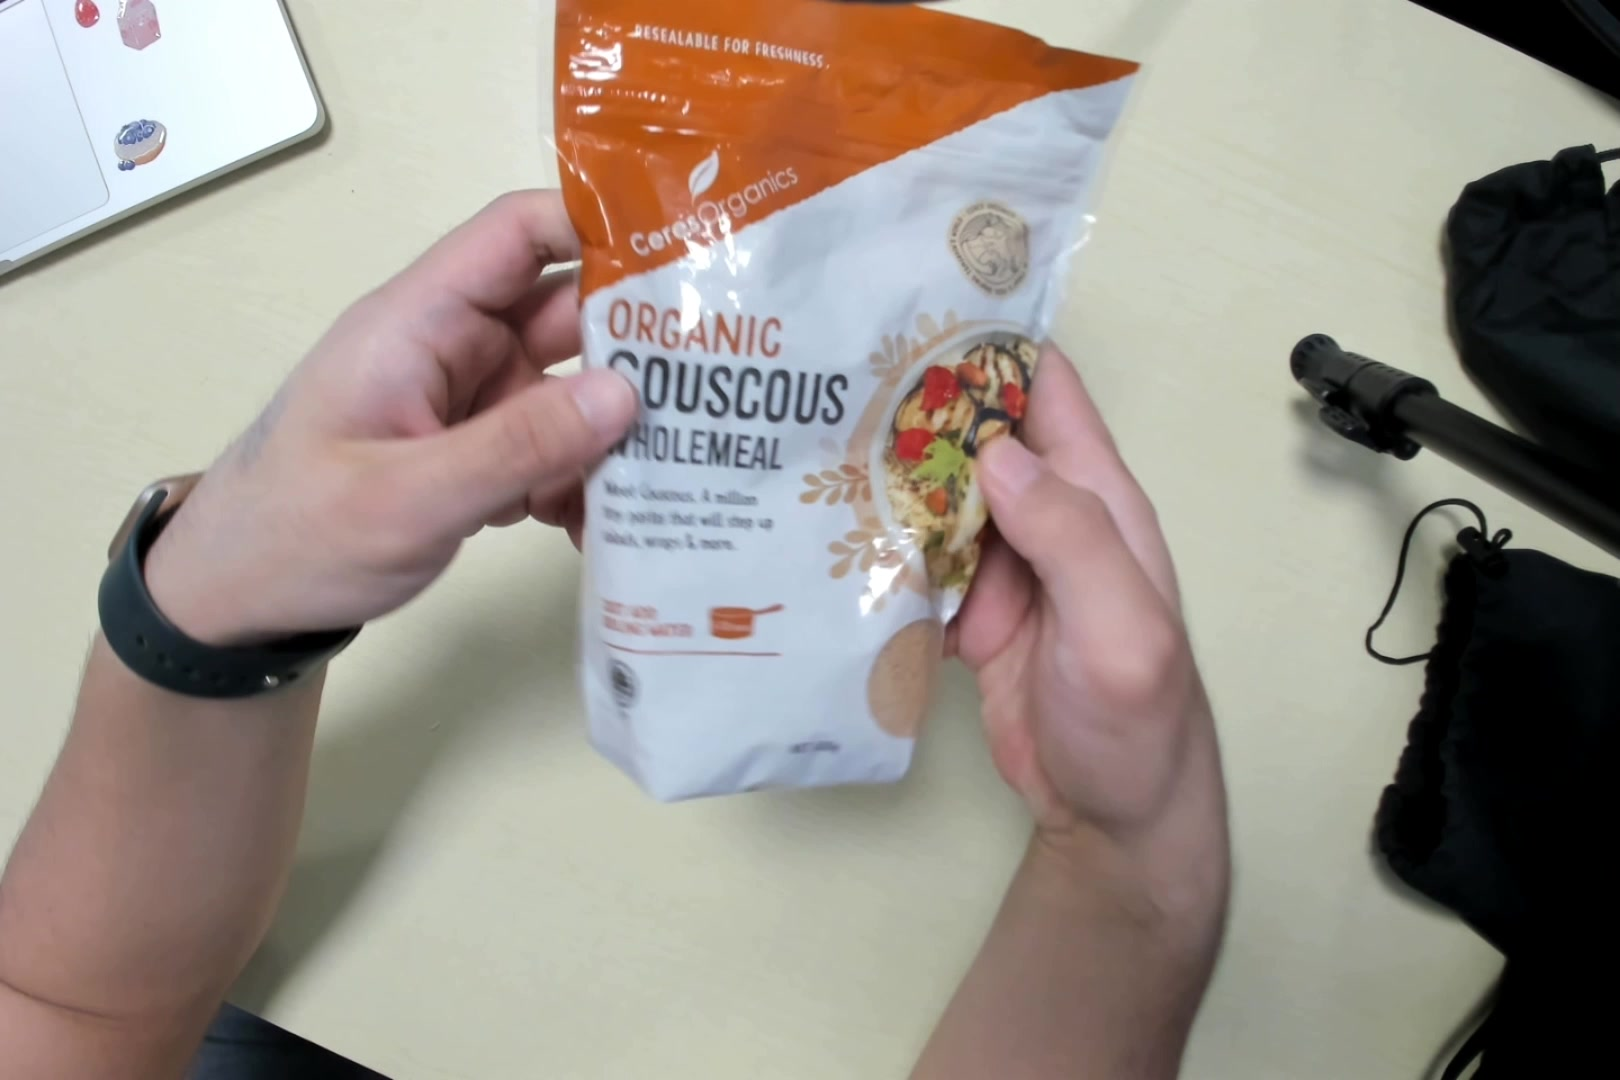Rice(BrownOthers)_300-399g_NonHalal_NonHealthy: (550, 4, 1093, 810)
